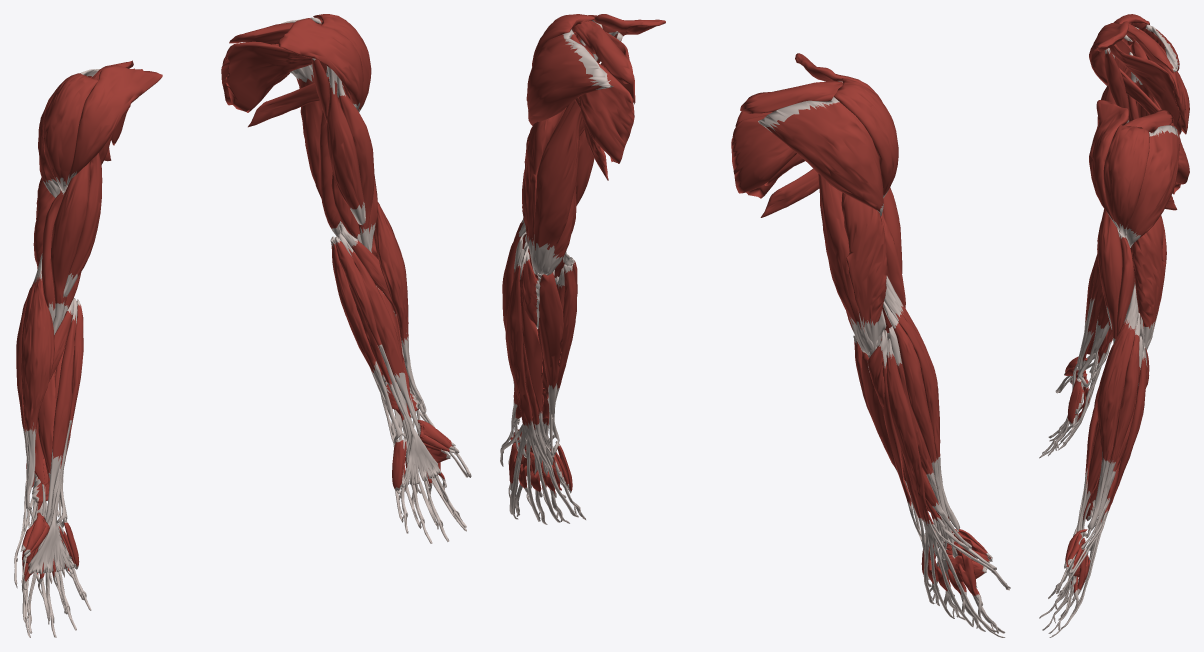
Rendered from muscles-upper-limb.glb.
3 views of the same model, side by side, from view 1: azimuth 30°, elevation 25°; view 2: azimuth 150°, elevation 25°; view 3: azimuth 270°, elevation 25° (orthographic). The views are drawn at different scales.
Parts seen in each view (by area): view 1: muscle-brachioradialis-muscle-r, muscle-clavicular-part-of-deltoid-muscle-r, muscle-subscapularis-muscle-l, muscle-acromial-part-of-deltoid-muscle-r, muscle-clavicular-part-of-deltoid-muscle-l, muscle-long-head-of-biceps-brachii-r, muscle-short-head-of-biceps-brachii-l, muscle-palmaris-longus-muscle-l, muscle-brachioradialis-muscle-l, muscle-palmaris-longus-muscle-r, muscle-flexor-carpi-radialis-r, muscle-flexor-carpi-radialis-l (+19 smaller); view 2: muscle-scapular-spinal-part-of-deltoid-muscle-r, muscle-long-head-of-triceps-brachii-l, muscle-scapular-spinal-part-of-deltoid-muscle-l, muscle-lateral-head-of-triceps-brachii-r, muscle-extensor-digitorum-r, muscle-extensor-digitorum-l, muscle-infraspinatus-muscle-l, muscle-infraspinatus-muscle-r, muscle-long-head-of-triceps-brachii-r, muscle-acromial-part-of-deltoid-muscle-r, muscle-extensor-carpi-radialis-longus-r, muscle-brachioradialis-muscle-r (+22 smaller); view 3: muscle-brachioradialis-muscle-l, muscle-acromial-part-of-deltoid-muscle-l, muscle-scapular-spinal-part-of-deltoid-muscle-l, muscle-lateral-head-of-triceps-brachii-l, muscle-long-head-of-biceps-brachii-l, muscle-clavicular-part-of-deltoid-muscle-l, muscle-subscapularis-muscle-r, muscle-extensor-carpi-radialis-longus-l, muscle-extensor-digitorum-l, muscle-clavicular-part-of-deltoid-muscle-r, muscle-brachialis-muscle-l, muscle-coracobrachialis-muscle-r (+26 smaller).
Boxes of the visible parts, x1,y1,x2,y2 form: muscle-brachioradialis-muscle-r: [21, 253, 55, 512]; muscle-clavicular-part-of-deltoid-muscle-r: [66, 65, 162, 187]; muscle-subscapularis-muscle-l: [225, 41, 319, 112]; muscle-acromial-part-of-deltoid-muscle-r: [42, 73, 98, 190]; muscle-clavicular-part-of-deltoid-muscle-l: [278, 18, 363, 109]; muscle-long-head-of-biceps-brachii-r: [50, 162, 90, 334]; muscle-short-head-of-biceps-brachii-l: [326, 66, 365, 225]; muscle-palmaris-longus-muscle-l: [335, 236, 441, 488]; muscle-brachioradialis-muscle-l: [373, 202, 426, 415]; muscle-palmaris-longus-muscle-r: [28, 299, 83, 574]; muscle-flexor-carpi-radialis-r: [45, 298, 77, 522]; muscle-flexor-carpi-radialis-l: [338, 232, 420, 436]; muscle-scapular-spinal-part-of-deltoid-muscle-r: [758, 96, 883, 216]; muscle-long-head-of-triceps-brachii-l: [531, 100, 582, 275]; muscle-scapular-spinal-part-of-deltoid-muscle-l: [526, 32, 613, 125]; muscle-lateral-head-of-triceps-brachii-r: [841, 192, 887, 356]; muscle-extensor-digitorum-r: [886, 338, 996, 632]; muscle-extensor-digitorum-l: [505, 248, 578, 522]; muscle-infraspinatus-muscle-l: [569, 29, 634, 163]; muscle-infraspinatus-muscle-r: [731, 115, 796, 193]; muscle-long-head-of-triceps-brachii-r: [818, 174, 873, 355]; muscle-acromial-part-of-deltoid-muscle-r: [834, 78, 898, 197]; muscle-extensor-carpi-radialis-longus-r: [883, 301, 958, 558]; muscle-brachioradialis-muscle-r: [884, 276, 959, 531]; muscle-brachioradialis-muscle-l: [1087, 279, 1138, 531]; muscle-acromial-part-of-deltoid-muscle-l: [1103, 124, 1149, 236]; muscle-scapular-spinal-part-of-deltoid-muscle-l: [1126, 125, 1179, 247]; muscle-lateral-head-of-triceps-brachii-l: [1132, 216, 1165, 350]; muscle-long-head-of-biceps-brachii-l: [1097, 209, 1122, 343]; muscle-clavicular-part-of-deltoid-muscle-l: [1089, 100, 1128, 232]; muscle-subscapularis-muscle-r: [1109, 44, 1181, 134]; muscle-extensor-carpi-radialis-longus-l: [1089, 312, 1140, 551]; muscle-extensor-digitorum-l: [1058, 350, 1146, 628]; muscle-clavicular-part-of-deltoid-muscle-r: [1089, 21, 1128, 85]; muscle-brachialis-muscle-l: [1116, 231, 1134, 336]; muscle-coracobrachialis-muscle-r: [1104, 48, 1129, 123].
Bounding box in the file's own units: 0.66 × 0.7118 × 0.2051.
